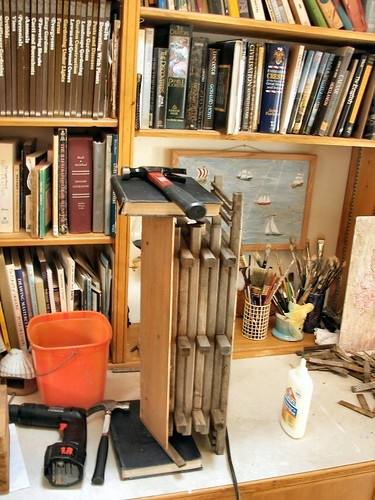hammer: (111, 159, 209, 219), (81, 387, 138, 487)
